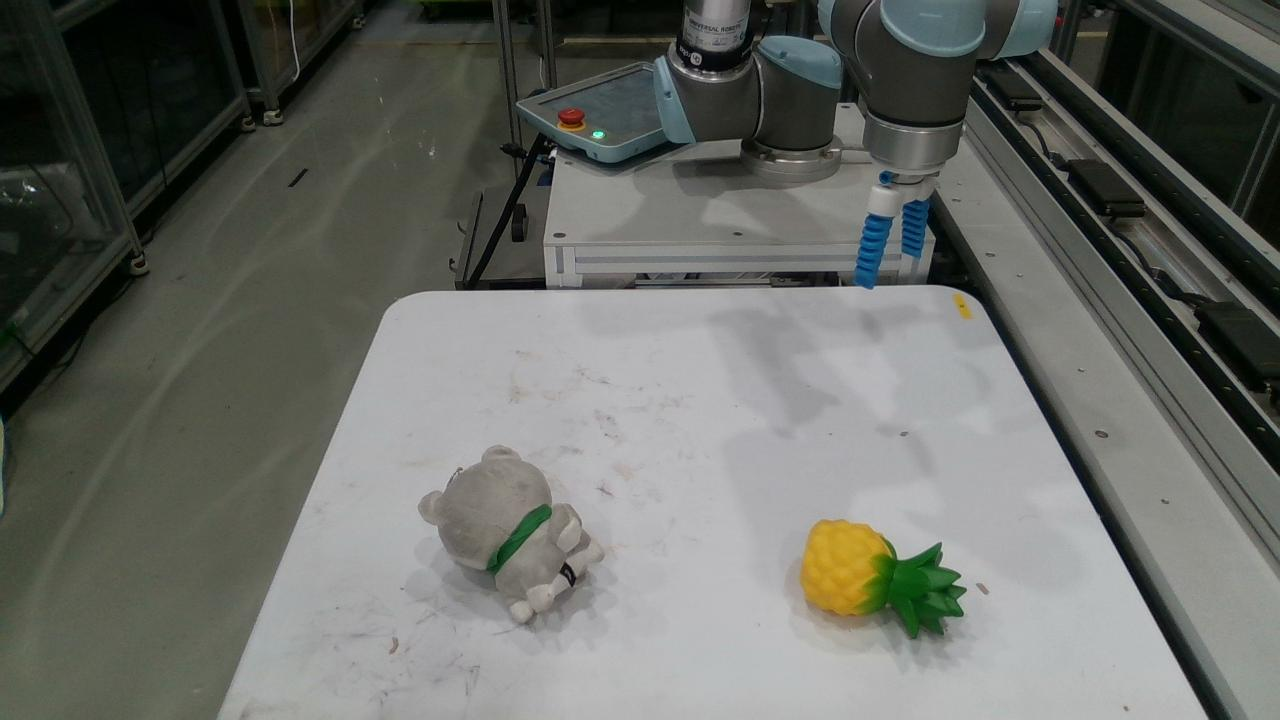UR5: (653, 0, 1058, 218)
gripper_left: (854, 213, 894, 291)
gripper_right: (901, 196, 931, 259)
target: (419, 444, 607, 622), (801, 518, 968, 640)
